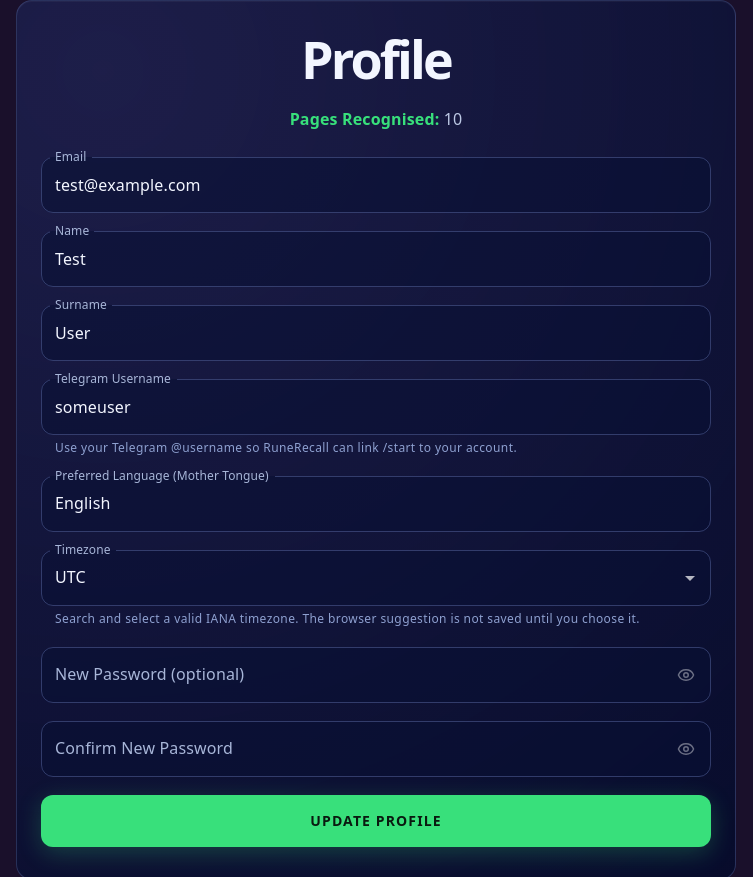
Test case: Profile › validates password length
The image size is (753, 877).
In the password field labelled "New Password (optional)": (352, 675) [41, 647, 664, 703], type "12345"
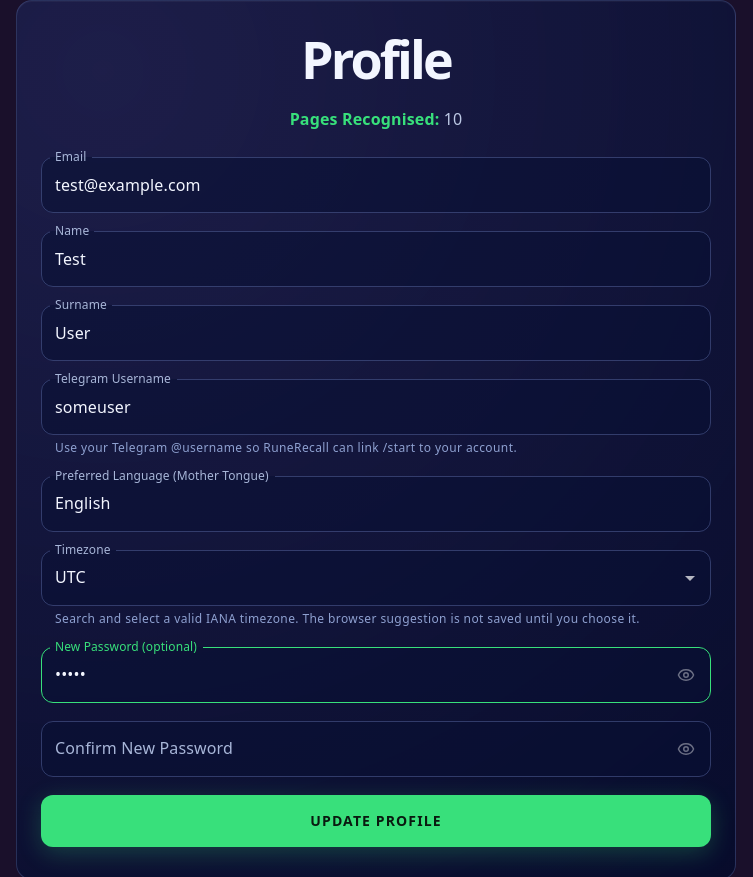
In the password field labelled "Confirm New Password": (352, 749) [41, 721, 664, 777], type "12345"
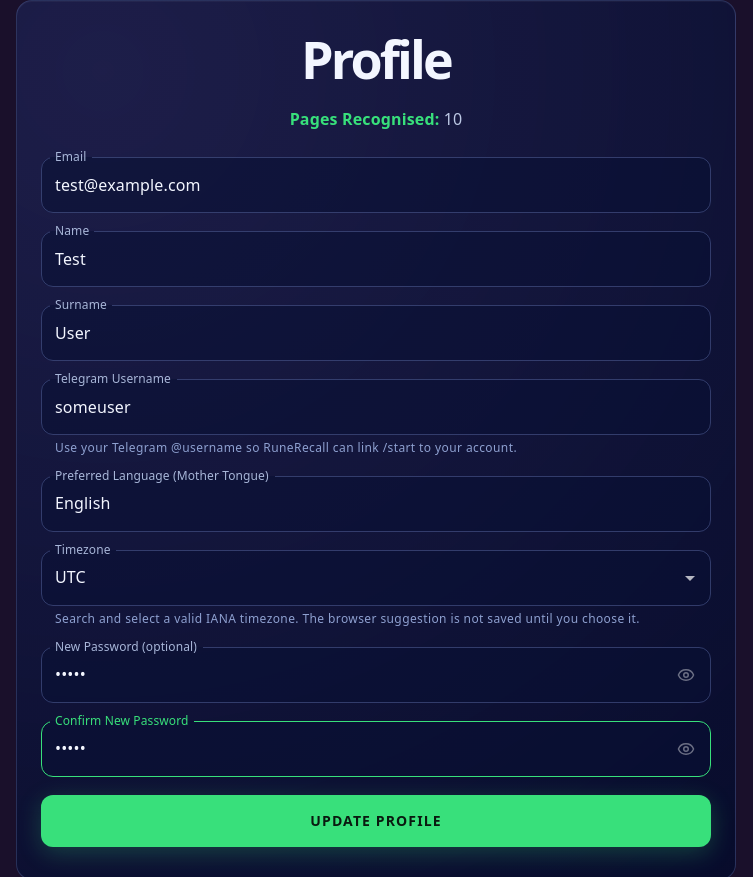
Click the button "Update Profile": (376, 821) [41, 795, 711, 847]
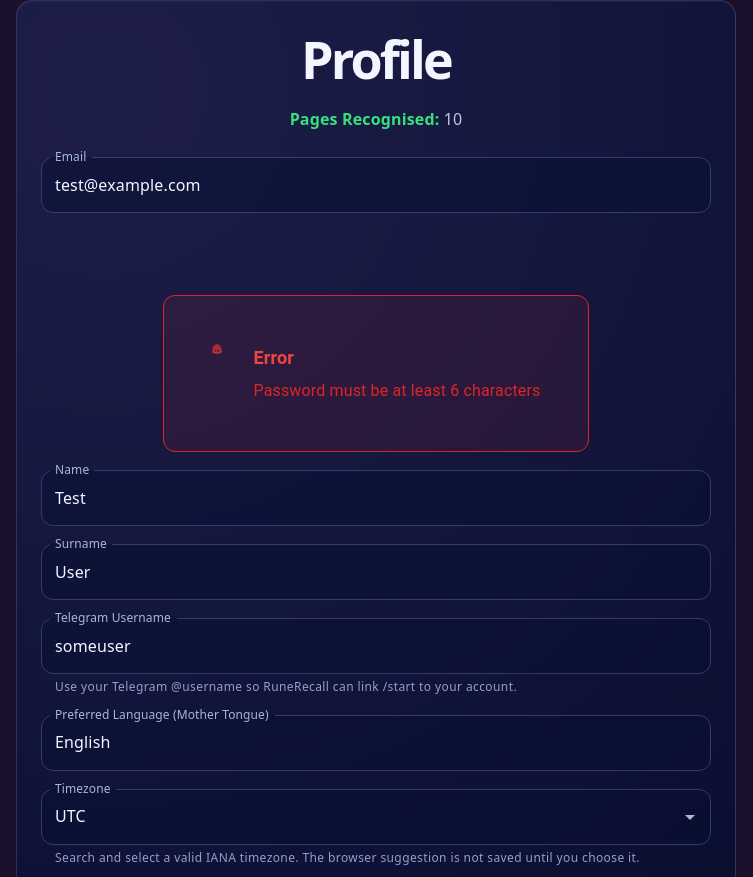
Now the text "Password must be at least 6 characters" is shown, box [254, 379, 540, 403]
